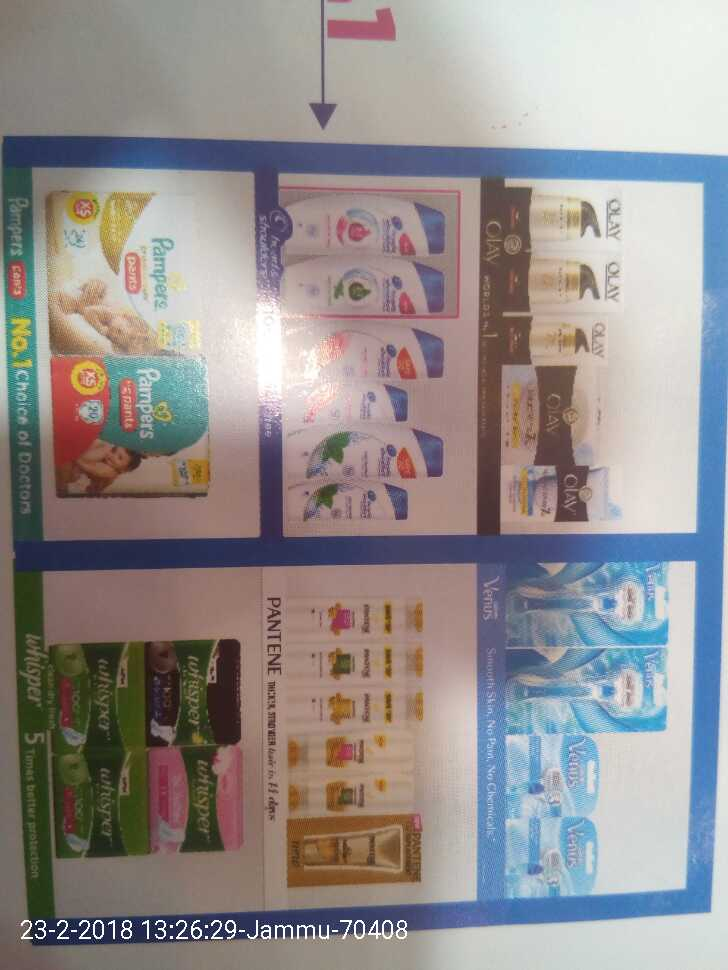venus: (504, 561, 678, 644), (506, 644, 672, 729), (505, 735, 605, 820), (506, 823, 589, 895)
